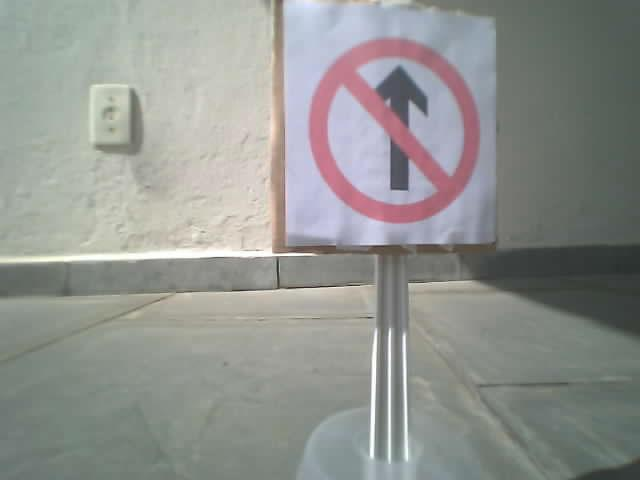R-3_sentido-proibido: (306, 36, 478, 222)
